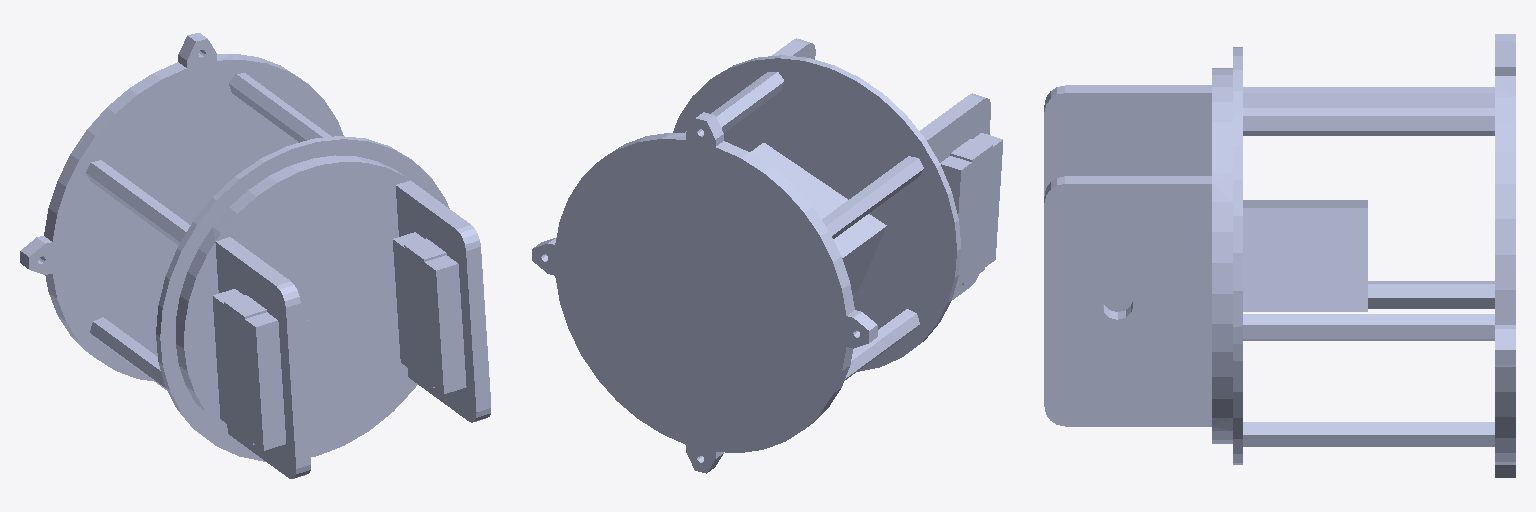
URDF robot description (ROBOTIC ARM URDF ONLY):
<?xml version="1.0" encoding="utf-8"?>
<!-- This URDF was automatically created by SolidWorks to URDF Exporter! Originally created by [author] ([email redacted]) 
     Commit Version: 1.5.1-0-g916b5db  Build Version: 1.5.7152.31018
     For more information, please see http://wiki.ros.org/sw_urdf_exporter -->
<robot
  name="ROBOTIC ARM URDF ONLY">
  <link
    name="base_link">
    <inertial>
      <origin
        xyz="0.0130606856888135 0.104796725192401 0.133927940020527"
        rpy="0 0 0" />
      <mass
        value="1.3348146018366" />
      <inertia
        ixx="0.00731717119287839"
        ixy="-5.57214543565611E-19"
        ixz="7.11045805568132E-21"
        iyy="0.00731717119287839"
        iyz="-8.71309104260103E-20"
        izz="0.0135564188757262" />
    </inertial>
    <visual>
      <origin
        xyz="0 0 0"
        rpy="0 0 0" />
      <geometry>
        <mesh
          filename="package://ROBOTIC ARM URDF ONLY/meshes/base_link.STL" />
      </geometry>
      <material
        name="">
        <color
          rgba="0.792156862745098 0.819607843137255 0.933333333333333 1" />
      </material>
    </visual>
    <collision>
      <origin
        xyz="0 0 0"
        rpy="0 0 0" />
      <geometry>
        <mesh
          filename="package://ROBOTIC ARM URDF ONLY/meshes/base_link.STL" />
      </geometry>
    </collision>
  </link>
  <link
    name="rotating base">
    <inertial>
      <origin
        xyz="-0.00118830586385247 -0.000117561062136257 0.107080284193852"
        rpy="0 0 0" />
      <mass
        value="1.39759764473395" />
      <inertia
        ixx="0.00478115680882623"
        ixy="-0.000102672286793589"
        ixz="3.62391329450547E-05"
        iyy="0.00570738237120315"
        iyz="2.29069919150103E-06"
        izz="0.00576377931534605" />
    </inertial>
    <visual>
      <origin
        xyz="0 0 0"
        rpy="0 0 0" />
      <geometry>
        <mesh
          filename="package://ROBOTIC ARM URDF ONLY/meshes/rotating base.STL" />
      </geometry>
      <material
        name="">
        <color
          rgba="0.792156862745098 0.819607843137255 0.933333333333333 1" />
      </material>
    </visual>
    <collision>
      <origin
        xyz="0 0 0"
        rpy="0 0 0" />
      <geometry>
        <mesh
          filename="package://ROBOTIC ARM URDF ONLY/meshes/rotating base.STL" />
      </geometry>
    </collision>
  </link>
  <joint
    name="rotating base"
    type="fixed">
    <origin
      xyz="0.0130606856888136 -0.160303043320073 0.104796725192401"
      rpy="1.5707963267949 0 0" />
    <parent
      link="base_link" />
    <child
      link="rotating base" />
    <axis
      xyz="0 0 0" />
  </joint>
  <link
    name="lower arm">
    <inertial>
      <origin
        xyz="-0.128633379591227 -6.10622663543836E-16 -0.0583747798123898"
        rpy="0 0 0" />
      <mass
        value="0.325078566457199" />
      <inertia
        ixx="0.000884467798485974"
        ixy="-4.28673439826664E-06"
        ixz="9.33981049618837E-21"
        iyy="0.00203100229868317"
        iyz="-4.72914870430842E-19"
        izz="0.00126432994950172" />
    </inertial>
    <visual>
      <origin
        xyz="0 0 0"
        rpy="0 0 0" />
      <geometry>
        <mesh
          filename="package://ROBOTIC ARM URDF ONLY/meshes/lower arm.STL" />
      </geometry>
      <material
        name="">
        <color
          rgba="0.792156862745098 0.819607843137255 0.933333333333333 1" />
      </material>
    </visual>
    <collision>
      <origin
        xyz="0 0 0"
        rpy="0 0 0" />
      <geometry>
        <mesh
          filename="package://ROBOTIC ARM URDF ONLY/meshes/lower arm.STL" />
      </geometry>
    </collision>
  </link>
  <joint
    name="lower arm"
    type="fixed">
    <origin
      xyz="0.078904 0.035105 0.15625"
      rpy="1.5708 0.84817 1.6376" />
    <parent
      link="rotating base" />
    <child
      link="lower arm" />
    <axis
      xyz="0 0 0" />
  </joint>
  <link
    name="upper arm ">
    <inertial>
      <origin
        xyz="-0.0550000000000019 0.162571615295359 -0.0390699999999899"
        rpy="0 0 0" />
      <mass
        value="0.553932772437962" />
      <inertia
        ixx="0.00950068407154474"
        ixy="1.04244344818587E-16"
        ixz="3.37744895191354E-20"
        iyy="0.000128887101671353"
        iyz="1.55946605287555E-18"
        izz="0.00961971522402867" />
    </inertial>
    <visual>
      <origin
        xyz="0 0 0"
        rpy="0 0 0" />
      <geometry>
        <mesh
          filename="package://ROBOTIC ARM URDF ONLY/meshes/upper arm .STL" />
      </geometry>
      <material
        name="">
        <color
          rgba="0.792156862745098 0.819607843137255 0.933333333333333 1" />
      </material>
    </visual>
    <collision>
      <origin
        xyz="0 0 0"
        rpy="0 0 0" />
      <geometry>
        <mesh
          filename="package://ROBOTIC ARM URDF ONLY/meshes/upper arm .STL" />
      </geometry>
    </collision>
  </link>
  <joint
    name="upper arm"
    type="fixed">
    <origin
      xyz="-0.31117 0.029882 -0.09414"
      rpy="-3.1416 0 2.5672" />
    <parent
      link="lower arm" />
    <child
      link="upper arm " />
    <axis
      xyz="0 0 0" />
  </joint>
  <link
    name="upper wrist">
    <inertial>
      <origin
        xyz="-0.059900277561973 0.0145250651582457 -0.039069999999978"
        rpy="0 0 0" />
      <mass
        value="0.157249507163386" />
      <inertia
        ixx="0.000103336543586532"
        ixy="2.38357966733588E-05"
        ixz="1.33042038371679E-20"
        iyy="3.21046938039661E-05"
        iyz="3.51102052570133E-20"
        izz="0.000132196675957652" />
    </inertial>
    <visual>
      <origin
        xyz="0 0 0"
        rpy="0 0 0" />
      <geometry>
        <mesh
          filename="package://ROBOTIC ARM URDF ONLY/meshes/upper wrist.STL" />
      </geometry>
      <material
        name="">
        <color
          rgba="0.792156862745098 0.819607843137255 0.933333333333333 1" />
      </material>
    </visual>
    <collision>
      <origin
        xyz="0 0 0"
        rpy="0 0 0" />
      <geometry>
        <mesh
          filename="package://ROBOTIC ARM URDF ONLY/meshes/upper wrist.STL" />
      </geometry>
    </collision>
  </link>
  <joint
    name="upper wrist"
    type="fixed">
    <origin
      xyz="0 0.3712 0"
      rpy="0 0 0" />
    <parent
      link="upper arm " />
    <child
      link="upper wrist" />
    <axis
      xyz="0 0 0" />
  </joint>
  <link
    name="middle wrist">
    <inertial>
      <origin
        xyz="0.0650700000000001 -0.0896700233335407 -0.012715703160485"
        rpy="0 0 0" />
      <mass
        value="0.113820080301924" />
      <inertia
        ixx="1.80752904389812E-05"
        ixy="1.09279312925436E-18"
        ixz="-3.91482937563274E-19"
        iyy="7.58156761069057E-05"
        iyz="-1.86347248395946E-20"
        izz="8.93102953285944E-05" />
    </inertial>
    <visual>
      <origin
        xyz="0 0 0"
        rpy="0 0 0" />
      <geometry>
        <mesh
          filename="package://ROBOTIC ARM URDF ONLY/meshes/middle wrist.STL" />
      </geometry>
      <material
        name="">
        <color
          rgba="0.792156862745098 0.819607843137255 0.933333333333333 1" />
      </material>
    </visual>
    <collision>
      <origin
        xyz="0 0 0"
        rpy="0 0 0" />
      <geometry>
        <mesh
          filename="package://ROBOTIC ARM URDF ONLY/meshes/middle wrist.STL" />
      </geometry>
    </collision>
  </link>
  <joint
    name="middle wrist"
    type="fixed">
    <origin
      xyz="-0.032259 0.007672 -0.10414"
      rpy="-1.3607 -1.5708 -1.4557" />
    <parent
      link="upper wrist" />
    <child
      link="middle wrist" />
    <axis
      xyz="0 0 0" />
  </joint>
  <link
    name="lower wrist">
    <inertial>
      <origin
        xyz="-1.73069891751254E-13 0.0112725620294346 0.0238188793866976"
        rpy="0 0 0" />
      <mass
        value="0.0521786415366043" />
      <inertia
        ixx="2.40049687608685E-05"
        ixy="-2.96461266841209E-17"
        ixz="3.84550559229676E-18"
        iyy="4.35494931309566E-05"
        iyz="-3.42527115552258E-06"
        izz="2.46186676394023E-05" />
    </inertial>
    <visual>
      <origin
        xyz="0 0 0"
        rpy="0 0 0" />
      <geometry>
        <mesh
          filename="package://ROBOTIC ARM URDF ONLY/meshes/lower wrist.STL" />
      </geometry>
      <material
        name="">
        <color
          rgba="0.792156862745098 0.819607843137255 0.933333333333333 1" />
      </material>
    </visual>
    <collision>
      <origin
        xyz="0 0 0"
        rpy="0 0 0" />
      <geometry>
        <mesh
          filename="package://ROBOTIC ARM URDF ONLY/meshes/lower wrist.STL" />
      </geometry>
    </collision>
  </link>
  <joint
    name="lower wrist"
    type="continuous">
    <origin
      xyz="0.06507 -0.11943 -0.01"
      rpy="-1.5708 0.010999 3.1416" />
    <parent
      link="middle wrist" />
    <child
      link="lower wrist" />
    <axis
      xyz="0 0 1" />
  </joint>
  <link
    name="end effector">
    <inertial>
      <origin
        xyz="0.0220101986822902 -0.00839778572417443 -0.0251828532394619"
        rpy="0 0 0" />
      <mass
        value="0.0176722137375323" />
      <inertia
        ixx="2.08105506846894E-06"
        ixy="7.8490913868189E-08"
        ixz="-2.53468984637684E-18"
        iyy="1.42701843774076E-06"
        iyz="-5.05546320612809E-19"
        izz="3.48089604018252E-06" />
    </inertial>
    <visual>
      <origin
        xyz="0 0 0"
        rpy="0 0 0" />
      <geometry>
        <mesh
          filename="package://ROBOTIC ARM URDF ONLY/meshes/end effector.STL" />
      </geometry>
      <material
        name="">
        <color
          rgba="0.792156862745098 0.819607843137255 0.933333333333333 1" />
      </material>
    </visual>
    <collision>
      <origin
        xyz="0 0 0"
        rpy="0 0 0" />
      <geometry>
        <mesh
          filename="package://ROBOTIC ARM URDF ONLY/meshes/end effector.STL" />
      </geometry>
    </collision>
  </link>
  <joint
    name="end effector"
    type="continuous">
    <origin
      xyz="0.02 -0.010879 0.035374"
      rpy="-1.5708 -0.2079 3.1416" />
    <parent
      link="lower wrist" />
    <child
      link="end effector" />
    <axis
      xyz="0 0 1" />
  </joint>
</robot>

--- Render facts (derived) ---
Views: 3 orthographic renders of the robot side by side, from view 1: azimuth 30°, elevation 25°; view 2: azimuth 150°, elevation 25°; view 3: azimuth 270°, elevation 25°.
Model ROBOTIC ARM URDF ONLY with 8 links and 7 joints (2 continuous, 5 fixed), rooted at base_link, posed every joint at zero.
Links seen in each view (by area): view 1: rotating base; view 2: rotating base; view 3: rotating base.
Boxes of the visible links, x1=… form: rotating base: x1=20, y1=33, x2=490, y2=478; rotating base: x1=532, y1=38, x2=1002, y2=473; rotating base: x1=1044, y1=34, x2=1515, y2=477.
Size in the robot's own frame: 0.23 by 0.225 by 0.23 metres.
Meshes: 8 distinct files referenced, 1 mesh visuals loaded (1 binary STL); not drawn: 7 (reference not matched to a file when rendering).